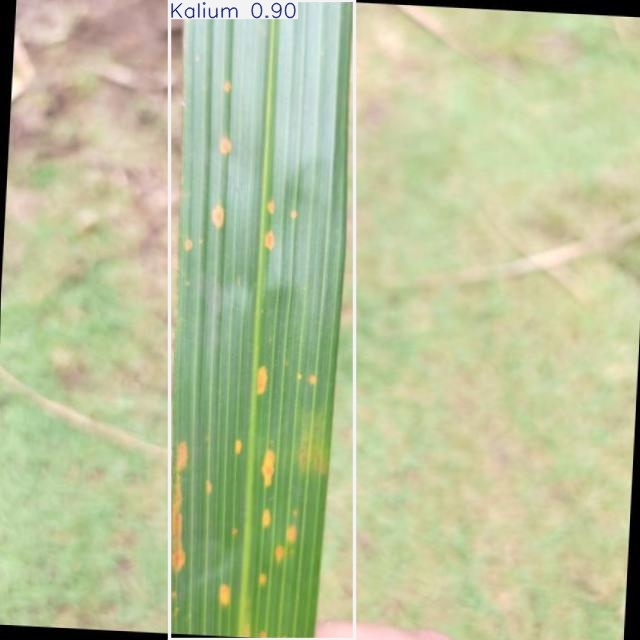Kalium: (169, 0, 355, 639)
